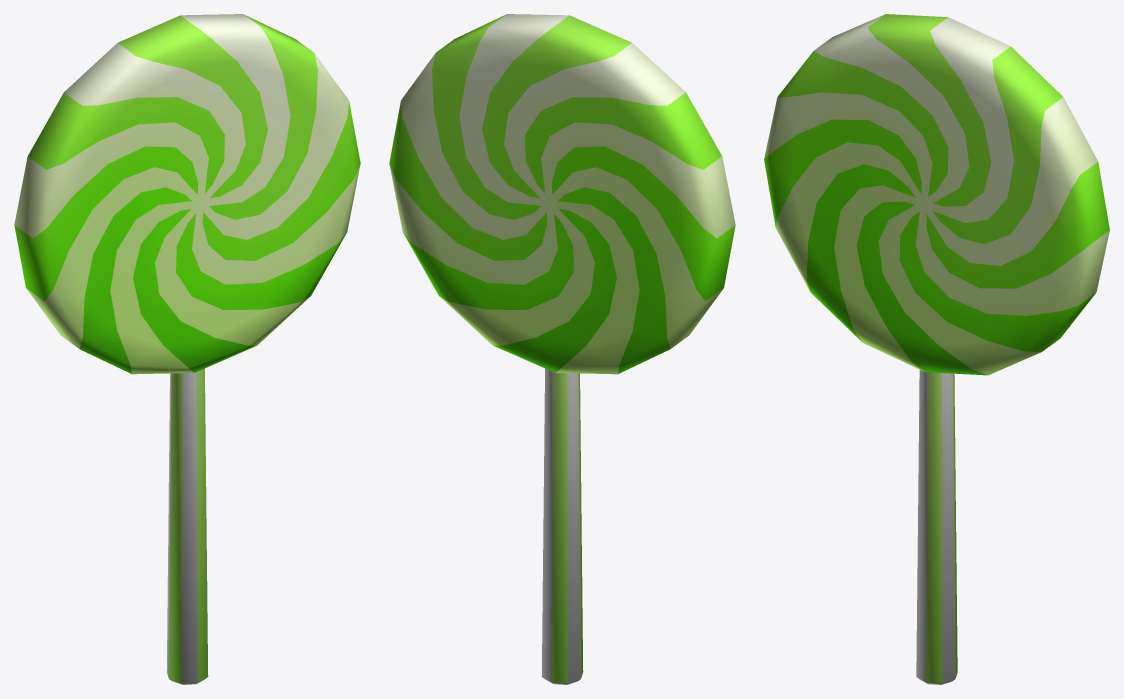
The model's file is SM_Candy_3.fbx.
3 renders of one model, left to right at view 1: azimuth 30°, elevation 25°; view 2: azimuth 150°, elevation 25°; view 3: azimuth 330°, elevation 25°, orthographic.
Visible parts, largest first — view 1: SM_Candy_3; view 2: SM_Candy_3; view 3: SM_Candy_3.
Part boxes in pixels (x1,y1,x2,y2): SM_Candy_3: (14,14,360,684); SM_Candy_3: (389,14,735,684); SM_Candy_3: (764,14,1109,684).
Size of the model in its own units: 9.37 by 17.9 by 1.28.
1 material, 1 textured.
